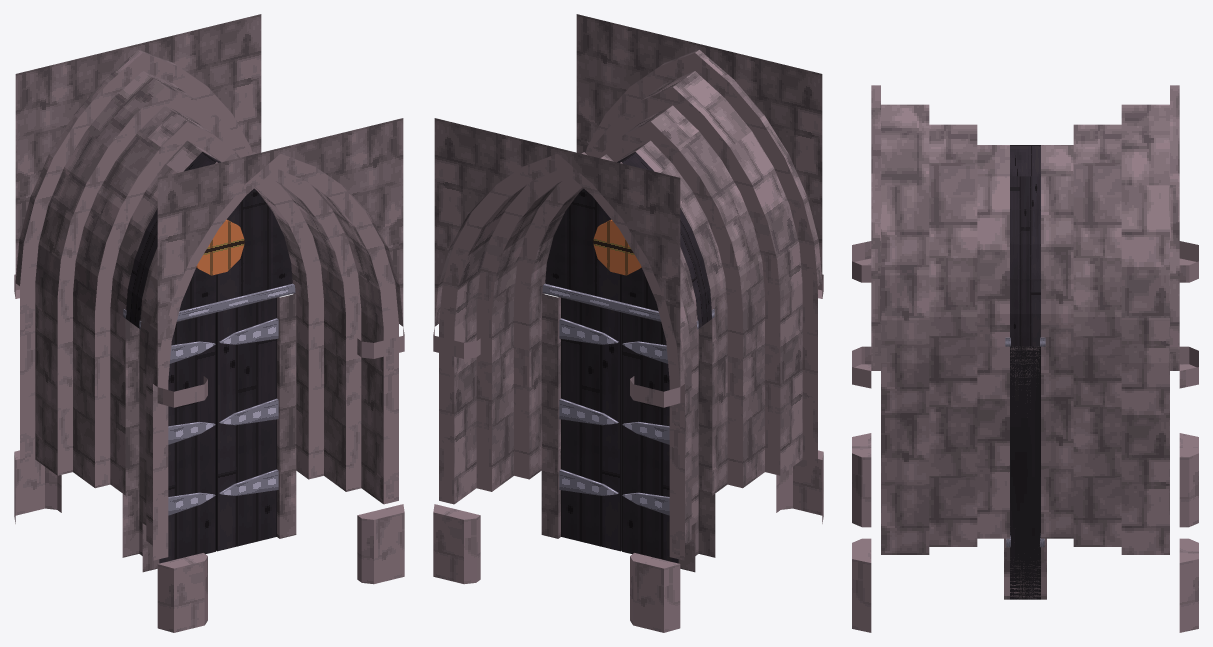
The model's file is door_boss_a.glb.
3 renders of one model, left to right at view 1: azimuth 30°, elevation 25°; view 2: azimuth 150°, elevation 25°; view 3: azimuth 270°, elevation 25°, orthographic. The views are drawn at different scales.
Visible parts, largest first — view 1: portal_back, portal_front, leaf_a, portal, leaf_b; view 2: portal_front, portal_back, leaf_a, portal, leaf_b; view 3: portal_front, portal_back, leaf_a, portal.
Boxes of the visible parts, x1,y1,x2,y2 form: portal_back: (14, 14, 279, 557); portal_front: (139, 118, 404, 632); leaf_a: (216, 297, 278, 551); portal: (123, 152, 295, 329); leaf_b: (159, 312, 215, 563); portal_front: (558, 14, 823, 557); portal_back: (433, 118, 698, 632); leaf_a: (559, 297, 621, 551); portal: (542, 152, 714, 329); leaf_b: (622, 312, 678, 563); portal_front: (852, 85, 1025, 632); portal_back: (1025, 85, 1198, 632); leaf_a: (1006, 346, 1044, 599); portal: (1005, 145, 1045, 346).
Size of the model in its own units: 2 by 3.5 by 2.25.
1 material, 1 textured.
